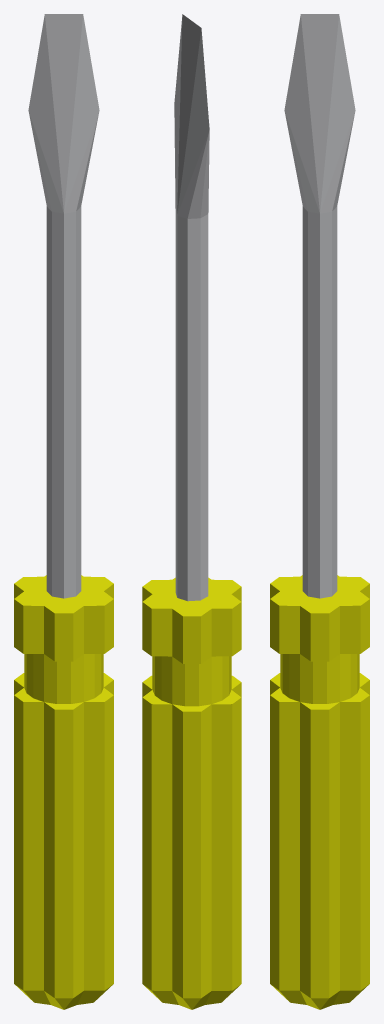
File: screwdriver.fbx
3 views of the same model, side by side, from view 1: azimuth 90°, elevation 25°; view 2: azimuth 210°, elevation 25°; view 3: azimuth 270°, elevation 25° (orthographic).
Visible parts, largest first — view 1: Circle, Circle.001; view 2: Circle, Circle.001; view 3: Circle, Circle.001.
Boxes of the visible parts, box(x1,y1,x2,y2) form: Circle: box(14, 575, 113, 1009); Circle.001: box(28, 14, 99, 598); Circle: box(142, 577, 241, 1009); Circle.001: box(174, 14, 209, 601); Circle: box(270, 575, 369, 1009); Circle.001: box(284, 14, 355, 598).
Bounding box in the file's own units: 49.24 × 512 × 46.98.
